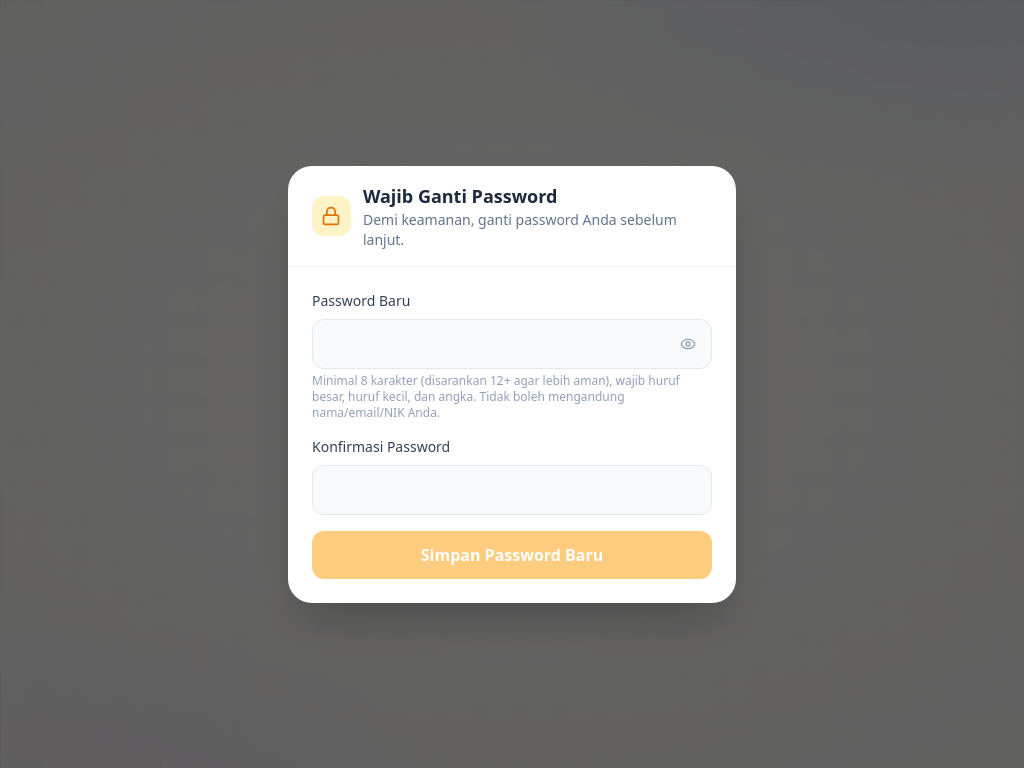
it: MustChangePasswordDialog › menolak konfirmasi tidak cocok
This screenshot has width=1024, height=768.
Type "Str0ngPass99!!" into the password field labelled "Password Baru" at (512, 344), box left=312, top=318, right=712, bottom=368
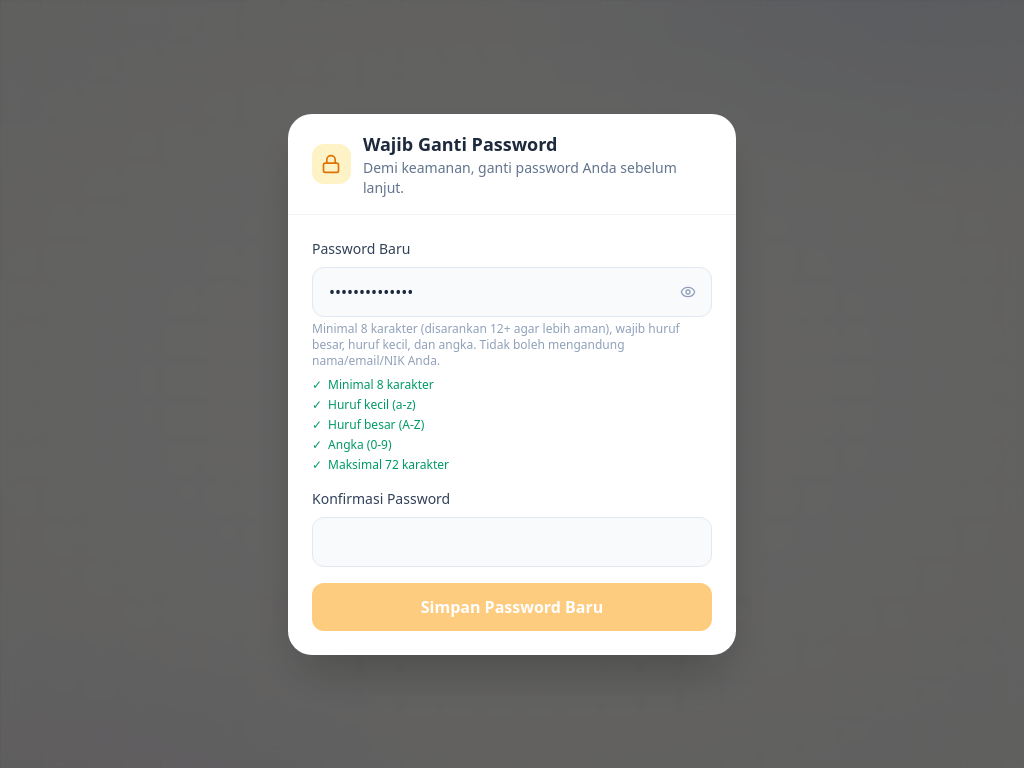
Type "Str0ngPass99!x" into the password field labelled "Konfirmasi Password" at (512, 542), box left=312, top=516, right=712, bottom=566
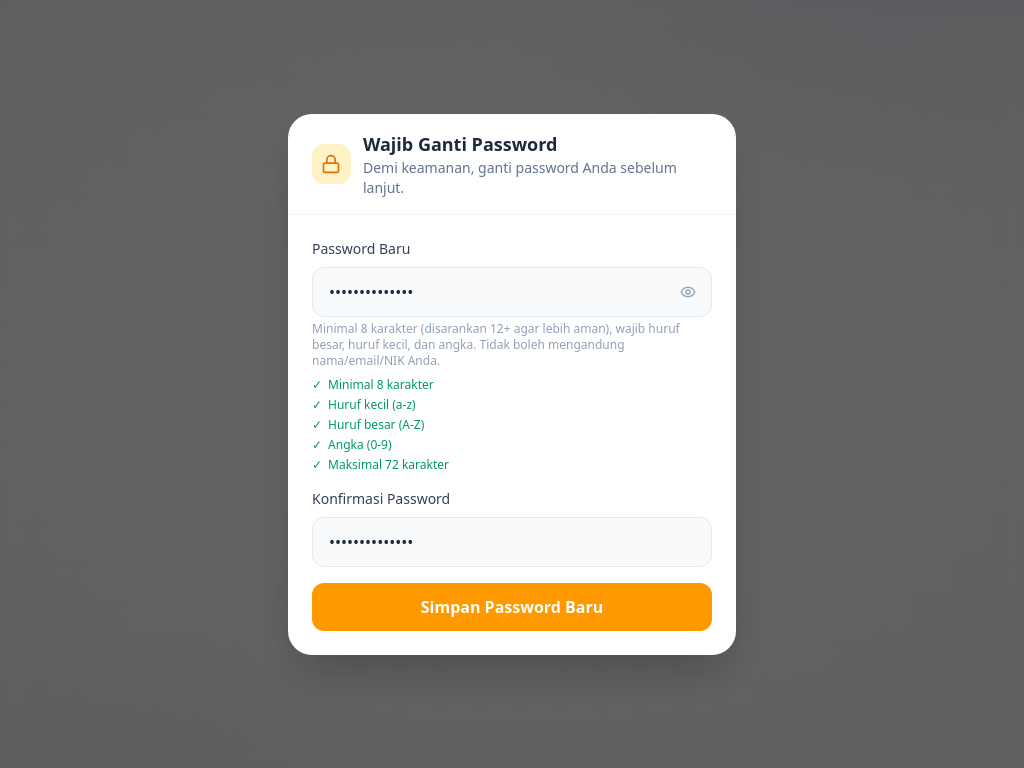
Click the button "Simpan Password Baru" at (512, 606), box left=312, top=582, right=712, bottom=630
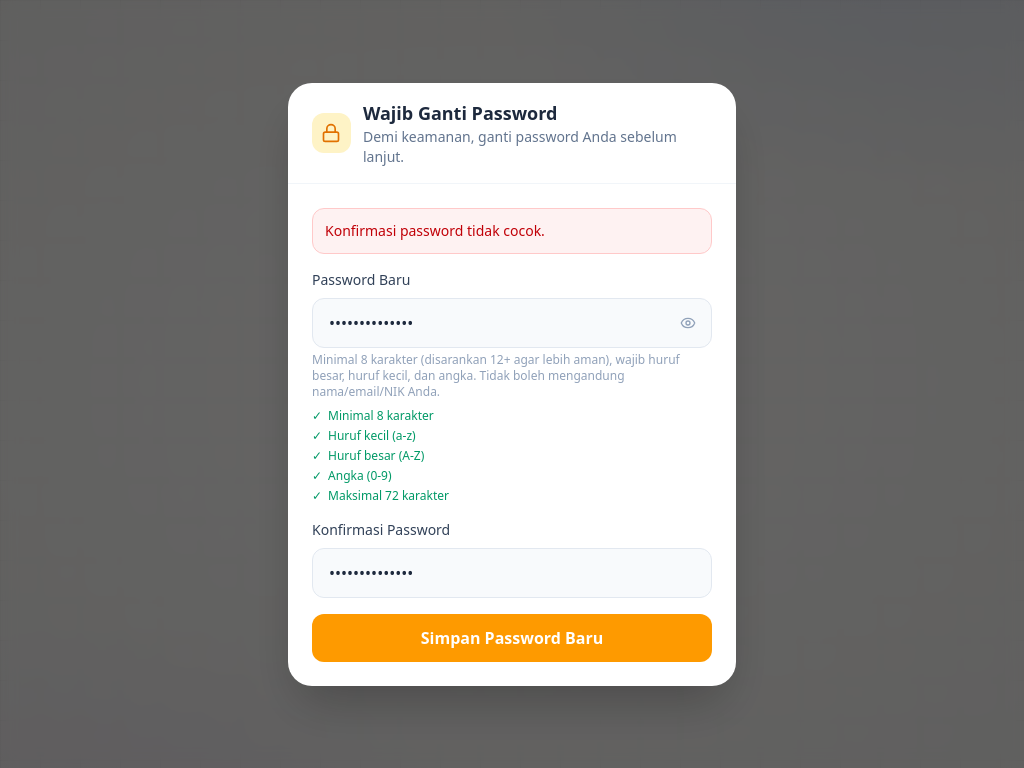
Expected: the text "Konfirmasi password tidak cocok." is shown, left=312, top=208, right=712, bottom=254
